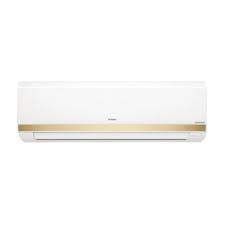ac: (12, 75, 211, 147)
